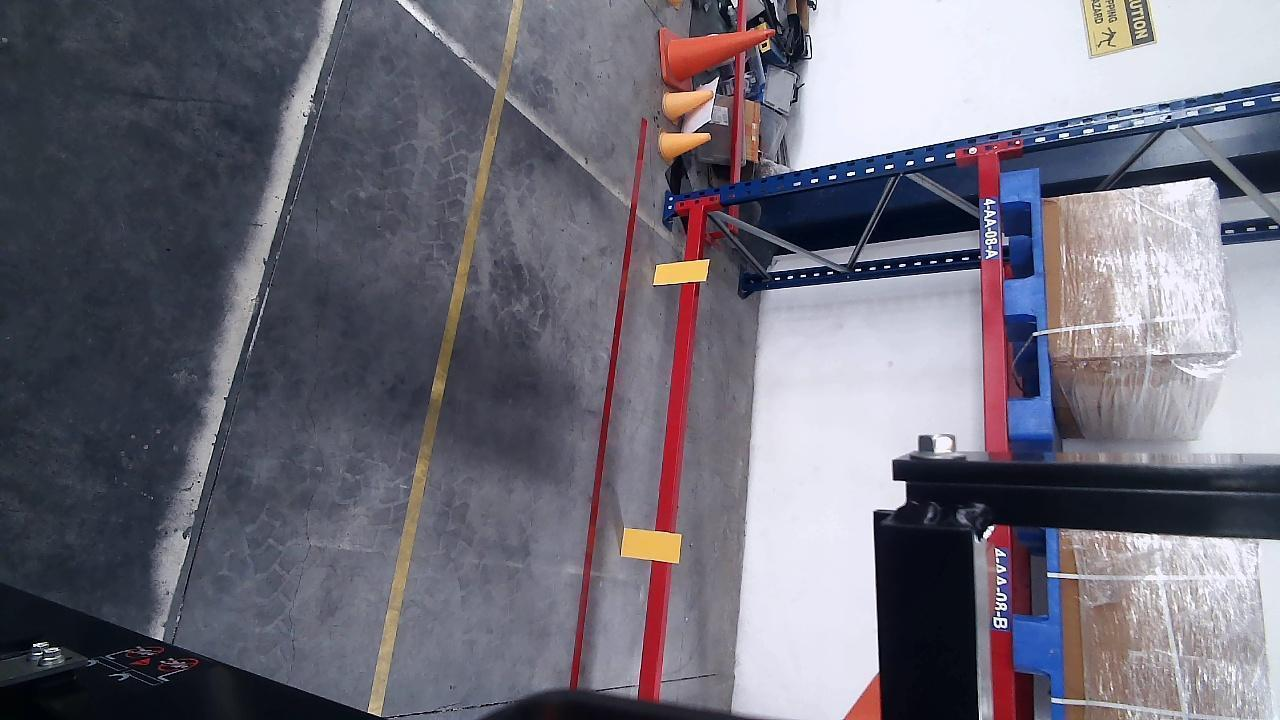red_line: (568, 119, 649, 684)
yellow_line: (362, 0, 526, 717)
